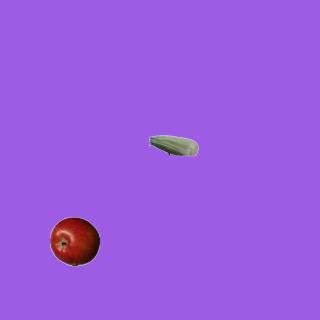Apple Braeburn: (49, 216, 99, 266)
Corn Husk: (148, 120, 198, 170)
